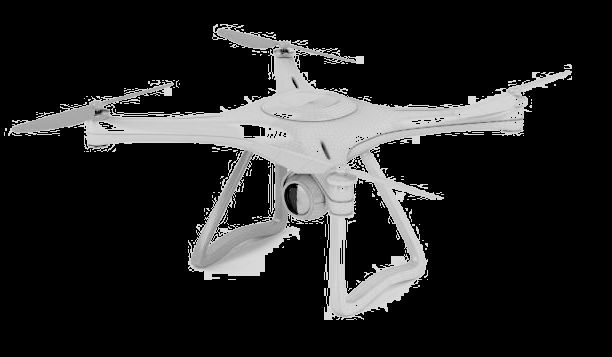Drone: (5, 17, 574, 329)
